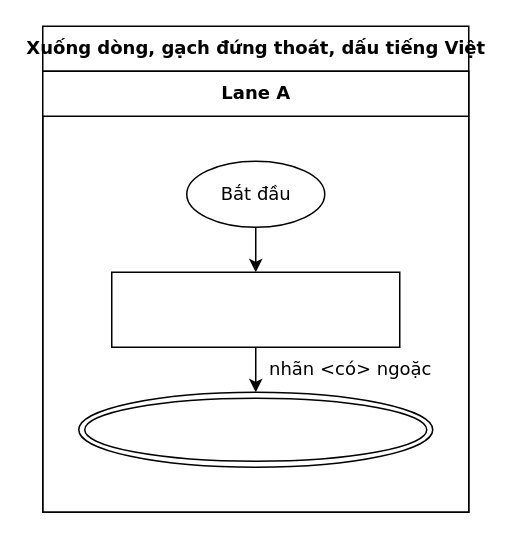
This 510x539 diagram has some shape labels left out. Here are the shapes that lost their labels. From the top down, the centre of each, then its label:
the point at 255,309: Dòng một Dòng hai | có gạch | đứng
the point at 255,429: Kết thúc phiên đối soát
